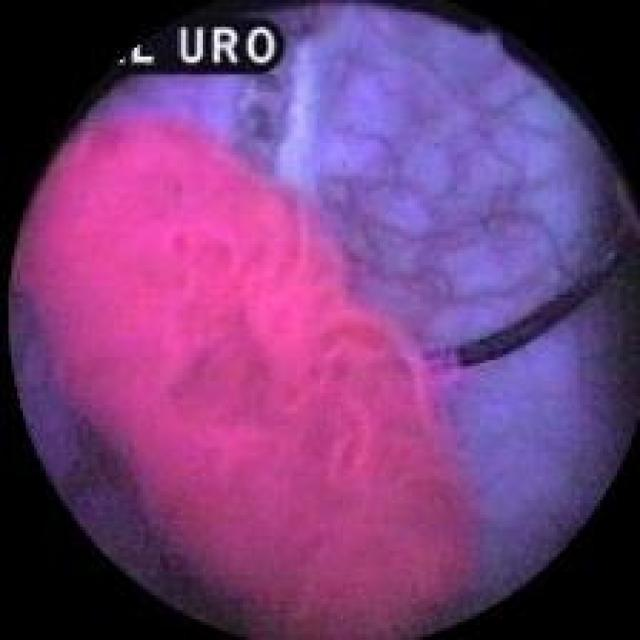color misalignment: (85, 16, 297, 87)
instrument: (224, 15, 632, 388)
